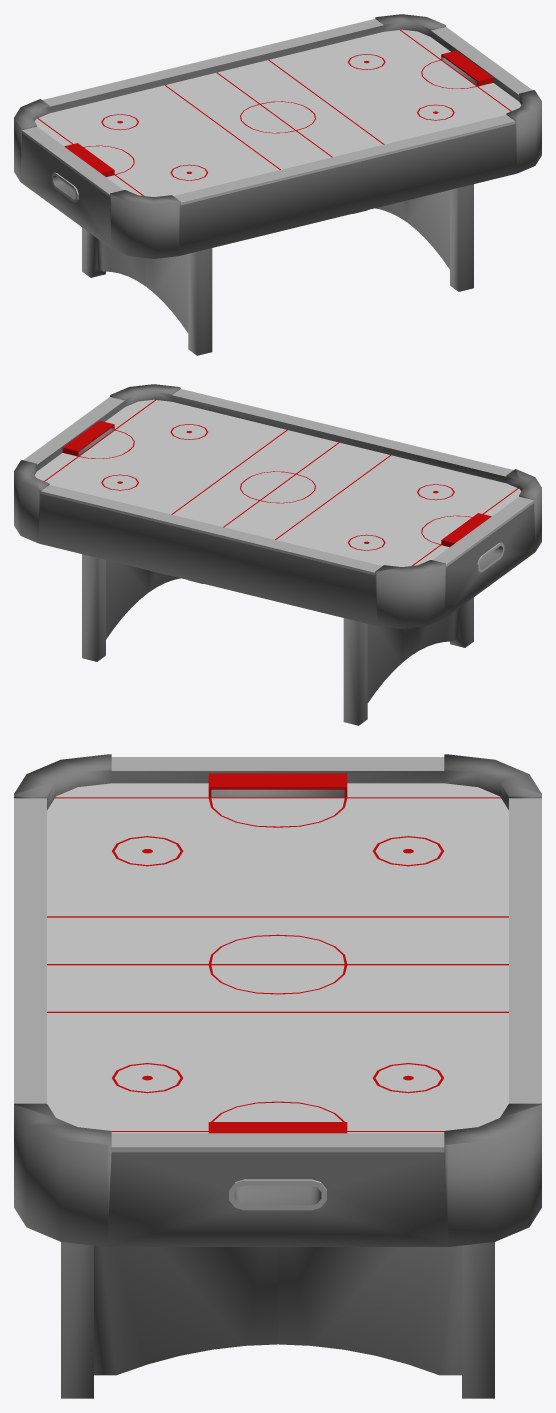
The model's file is table.gltf.
3 views of the same model, one above another, from view 1: azimuth 30°, elevation 25°; view 2: azimuth 150°, elevation 25°; view 3: azimuth 270°, elevation 25° (orthographic). The views are drawn at different scales.
Visible parts, largest first — view 1: ID3.002_ID96.005; view 2: ID3.002_ID96.005; view 3: ID3.002_ID96.005.
Part boxes in pixels (x1,y1,x2,y2): ID3.002_ID96.005: (14, 14, 541, 355); ID3.002_ID96.005: (14, 384, 541, 725); ID3.002_ID96.005: (14, 754, 541, 1398).
Bounding box in the file's own units: 15.69 × 5.99 × 8.91.
